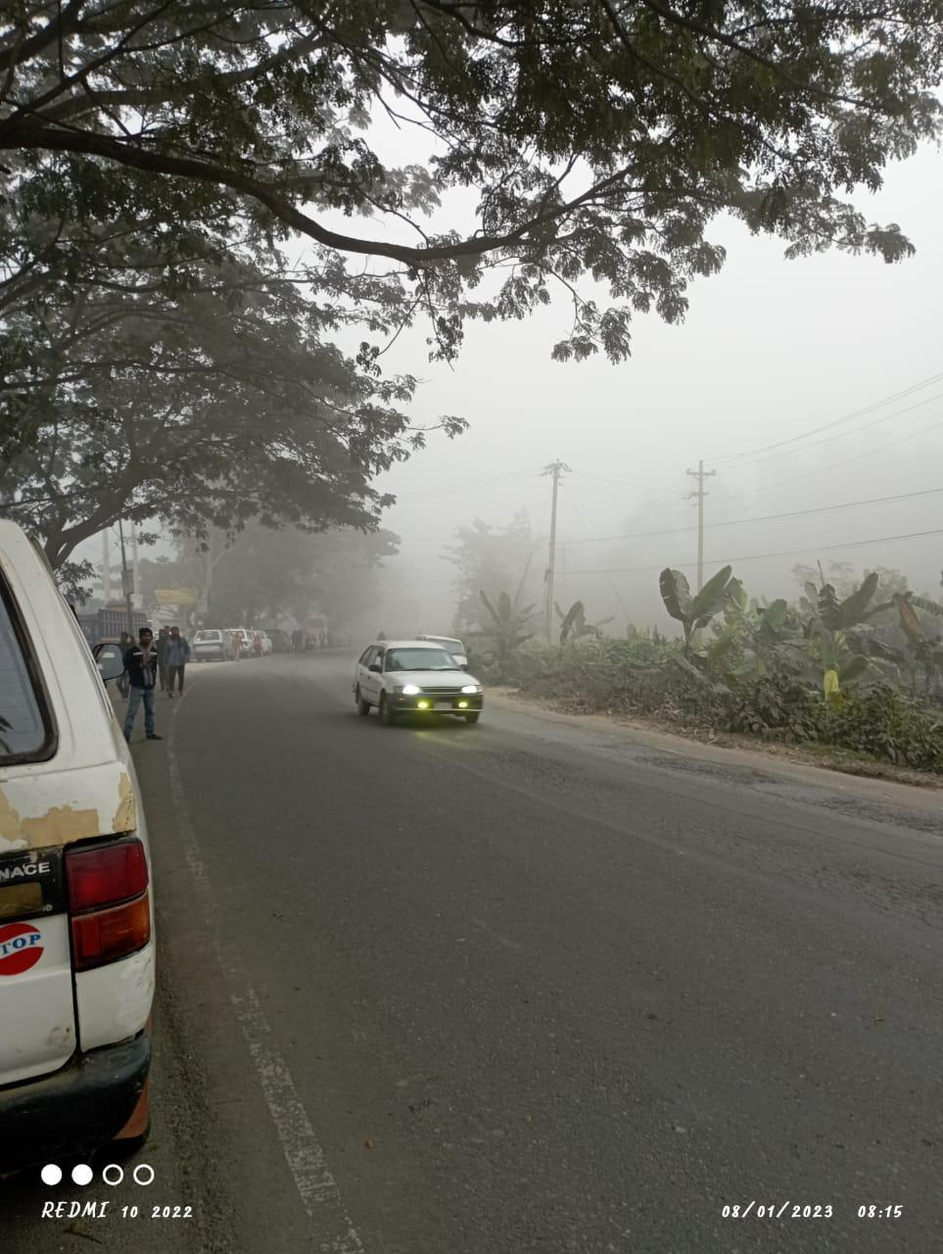Car: (1, 504, 182, 1178), (351, 632, 488, 726), (188, 620, 232, 663)
